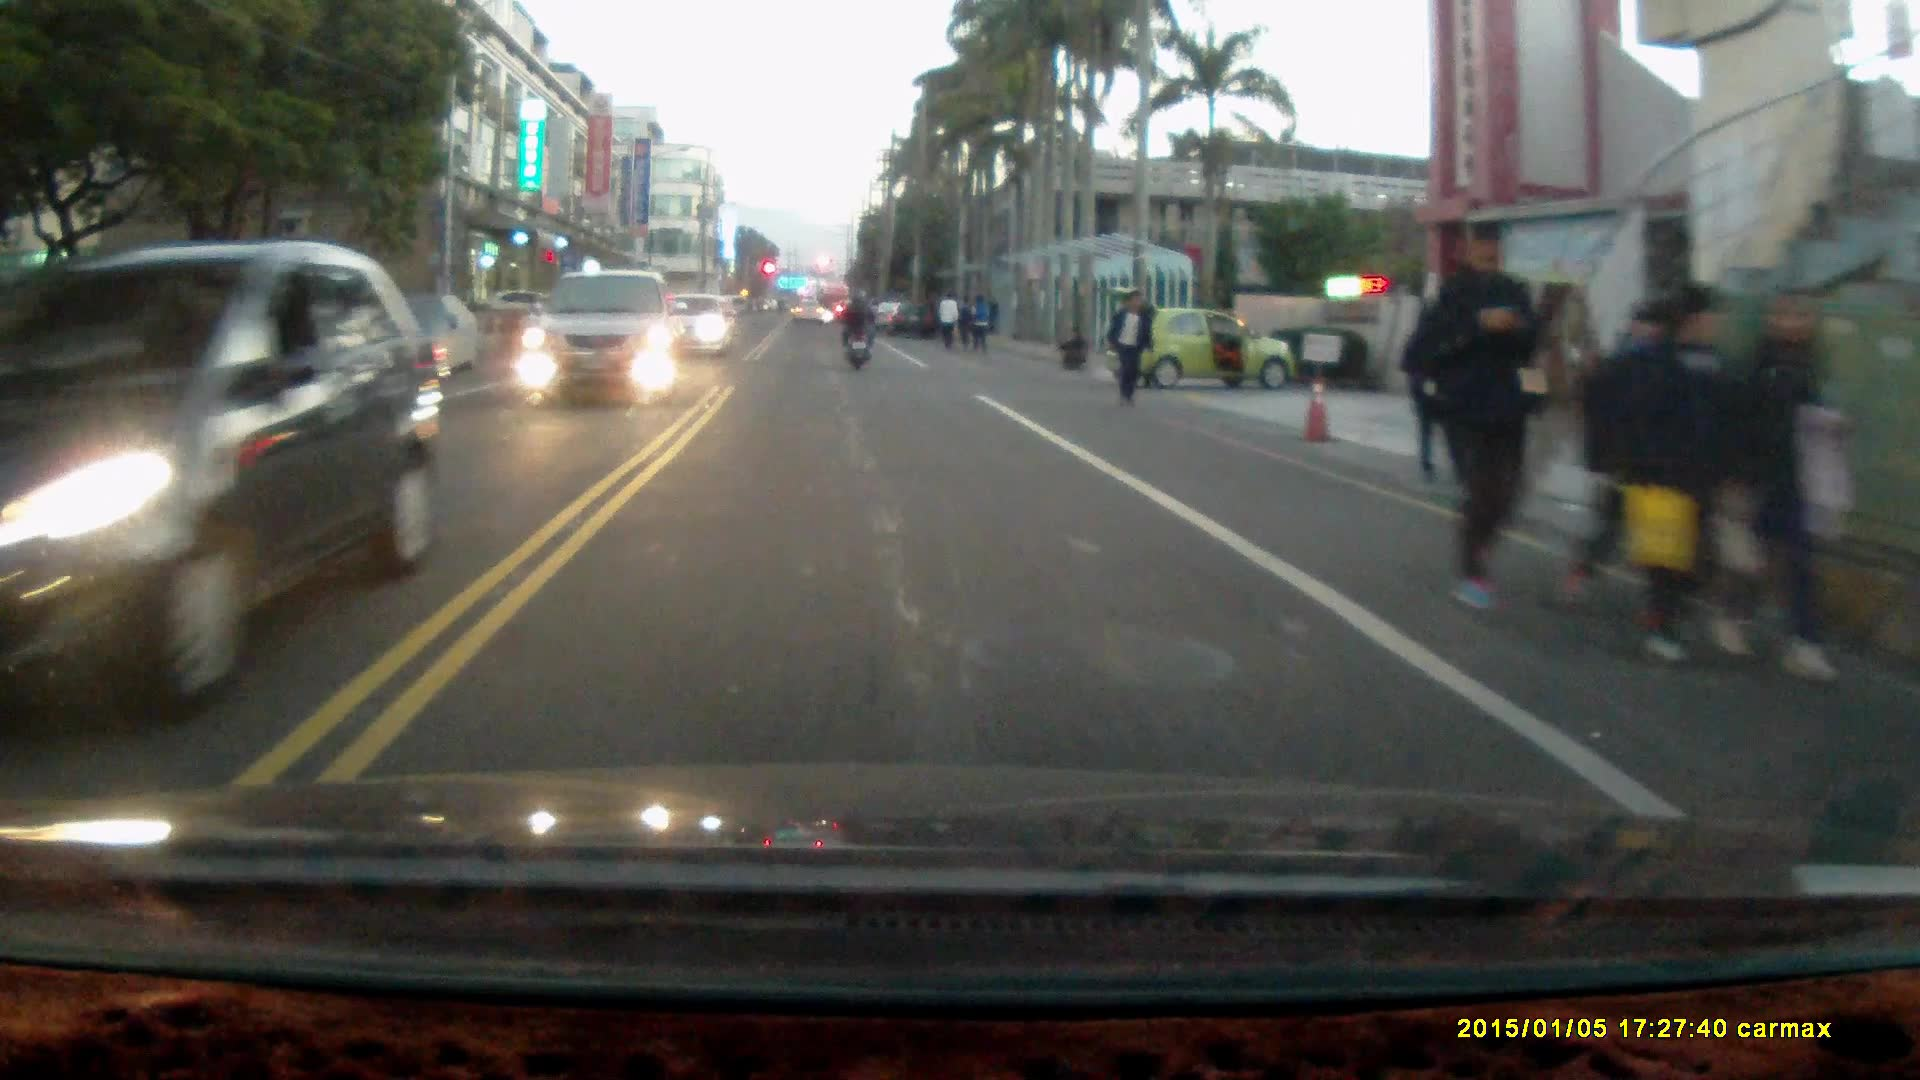pedestrian: (1607, 274, 1741, 671), (1433, 215, 1552, 619), (1730, 286, 1845, 683), (1398, 302, 1467, 491), (1103, 289, 1152, 407), (966, 289, 992, 353), (1055, 323, 1088, 372), (937, 287, 959, 352)
rider: (836, 287, 876, 370)
vehicle: (3, 236, 469, 667), (518, 269, 686, 400), (1106, 284, 1294, 392), (651, 291, 736, 357)
